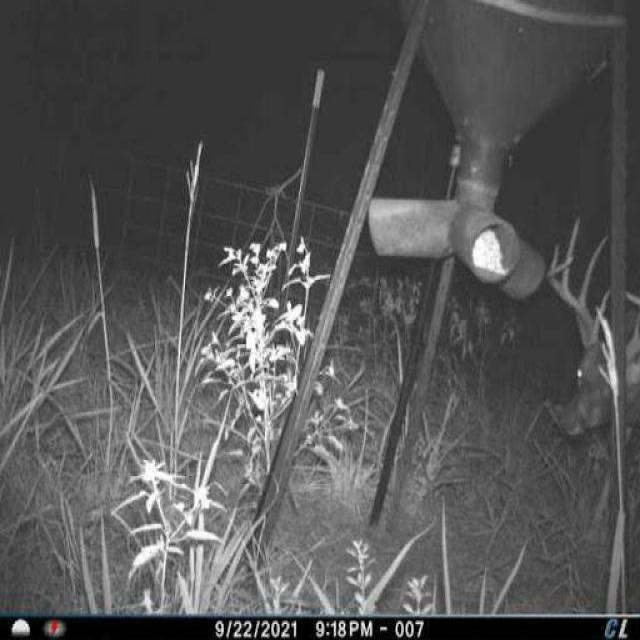deer: (545, 212, 640, 481)
